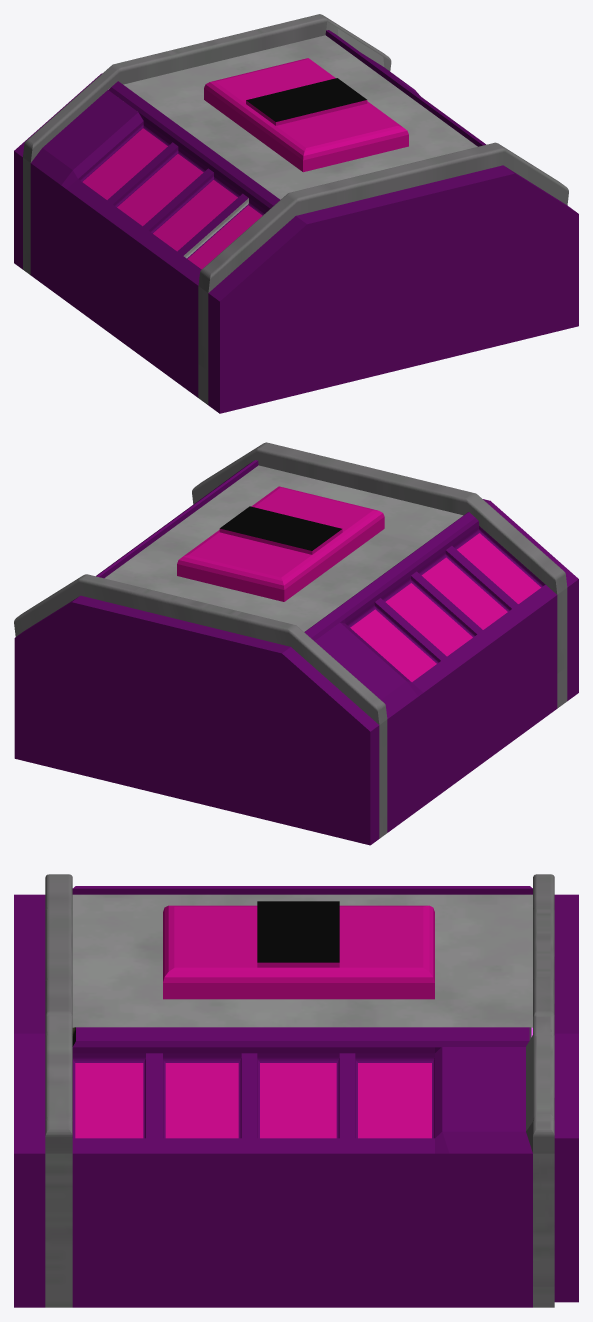
The model's file is JumpDriveCharger_Large.fbx.
3 renders of one model, top to bottom at view 1: azimuth 30°, elevation 25°; view 2: azimuth 150°, elevation 25°; view 3: azimuth 270°, elevation 25°, orthographic. The views are drawn at different scales.
Visible parts, largest first — view 1: Cube; view 2: Cube; view 3: Cube.
Part boxes in pixels (x1,y1,x2,y2): Cube: (14, 14, 578, 413); Cube: (14, 442, 578, 845); Cube: (14, 874, 578, 1307).
Bounding box in the file's own units: 2.52 × 1.28 × 2.49.
